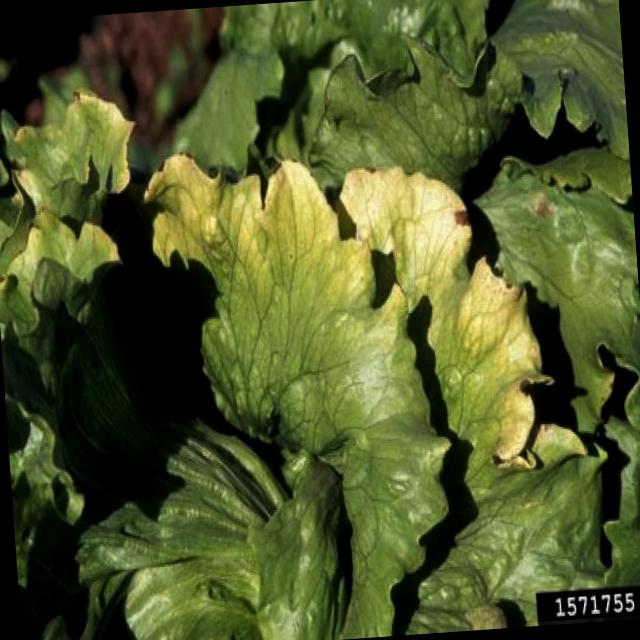lettuce mosaic virus: (0, 72, 640, 601)
